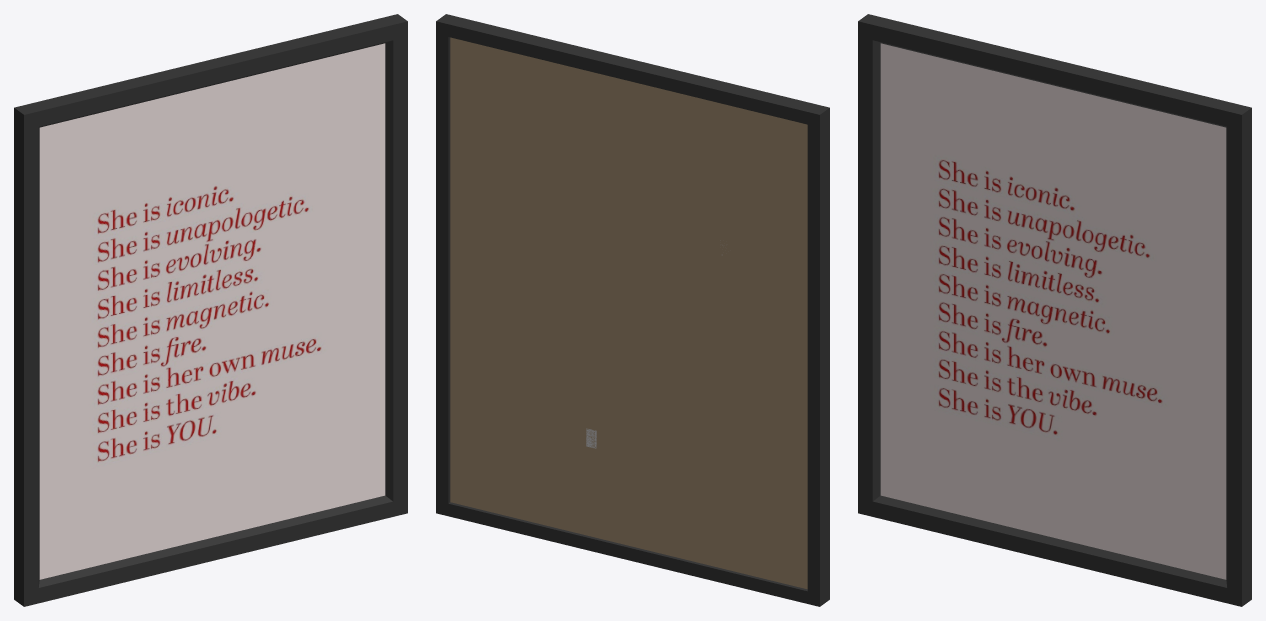
Rendered from she-is-iconic-40x50.glb.
3 renders of one model, left to right at view 1: azimuth 30°, elevation 25°; view 2: azimuth 150°, elevation 25°; view 3: azimuth 330°, elevation 25°, orthographic.
Parts seen in each view (by area): view 1: LAWHA 40x50; view 2: LAWHA 40x50; view 3: LAWHA 40x50.
Part boxes in pixels (bbox=[...]): LAWHA 40x50: bbox=[14, 14, 407, 606]; LAWHA 40x50: bbox=[436, 14, 829, 606]; LAWHA 40x50: bbox=[858, 14, 1251, 606].
Size of the model in its own units: 0.444 by 0.544 by 0.02.
Materials: 4 (1 with a texture image).
